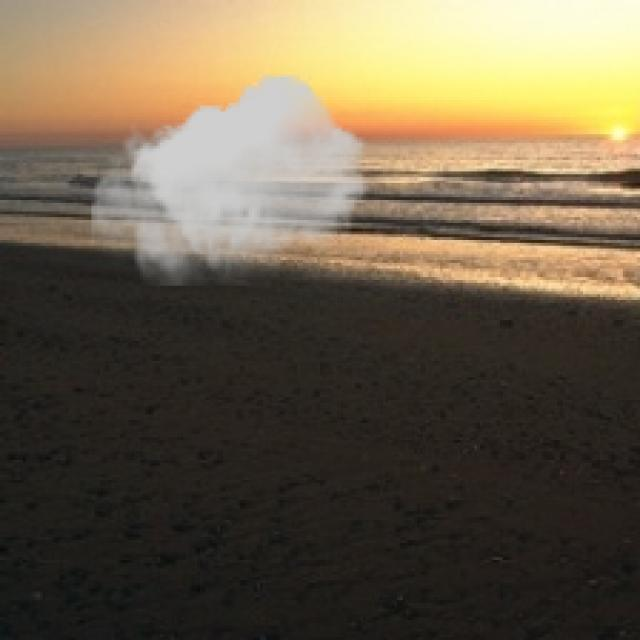Smoke: (92, 74, 368, 286)
